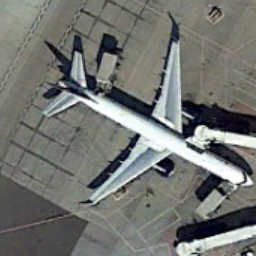Airplane: (36, 10, 256, 229)
